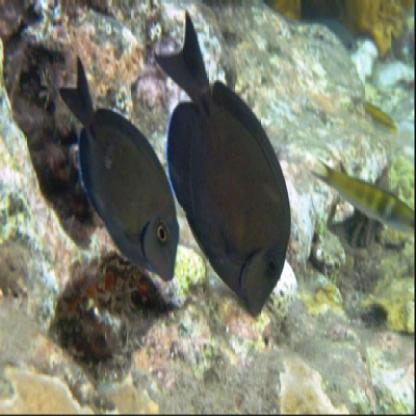Acanthuridae -Surgeonfishes-: (154, 7, 292, 318), (57, 54, 180, 284)
